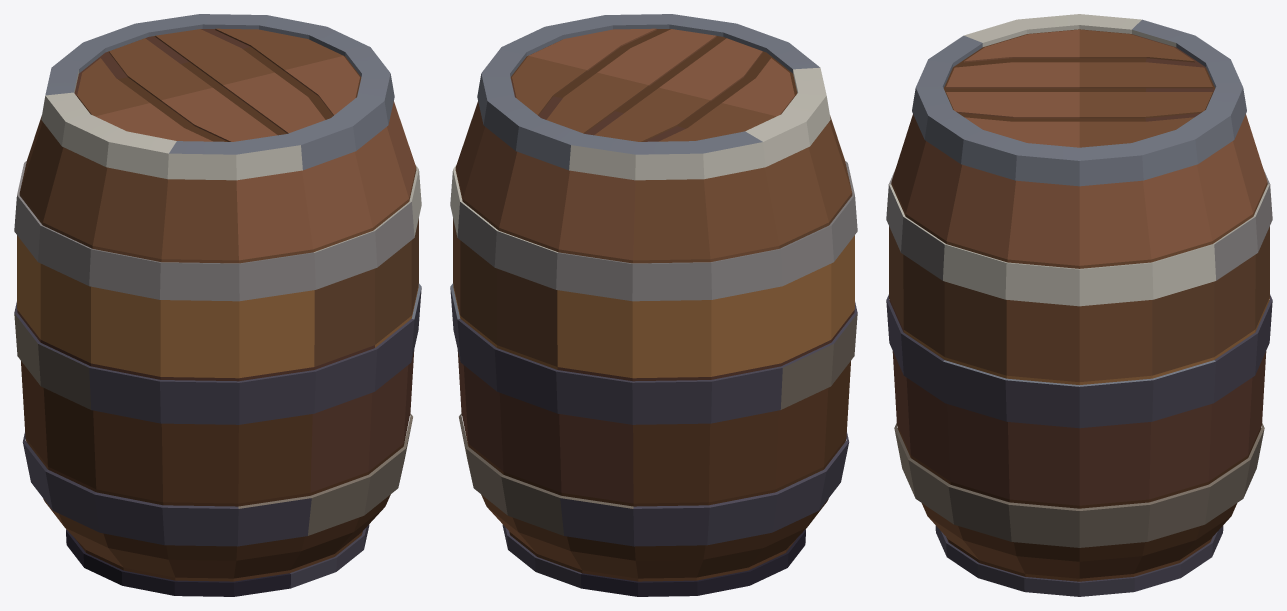
The model's file is static_barrel.glb.
3 views of the same model, side by side, from view 1: azimuth 30°, elevation 25°; view 2: azimuth 150°, elevation 25°; view 3: azimuth 270°, elevation 25° (orthographic).
Parts seen in each view (by area): view 1: FixedBarrel; view 2: FixedBarrel; view 3: FixedBarrel.
Boxes of the visible parts, left/top/right/bottom form: FixedBarrel: left=14, top=14, right=421, bottom=596; FixedBarrel: left=450, top=14, right=857, bottom=596; FixedBarrel: left=886, top=14, right=1272, bottom=596.
Size of the model in its own units: 0.5828 by 0.7 by 0.549.
